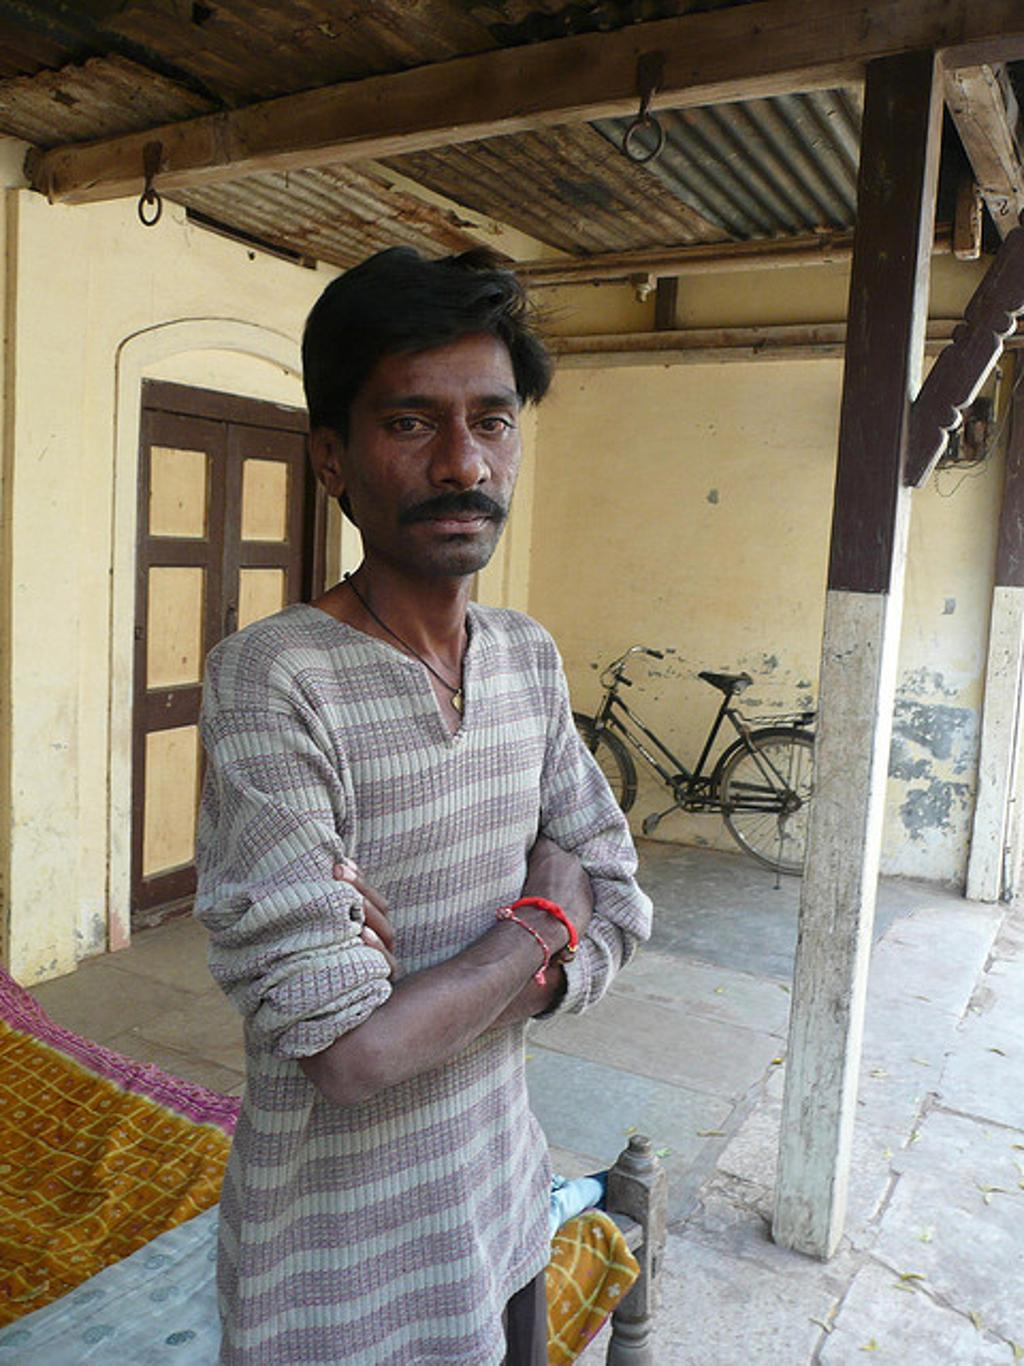face: (363, 339, 512, 552)
